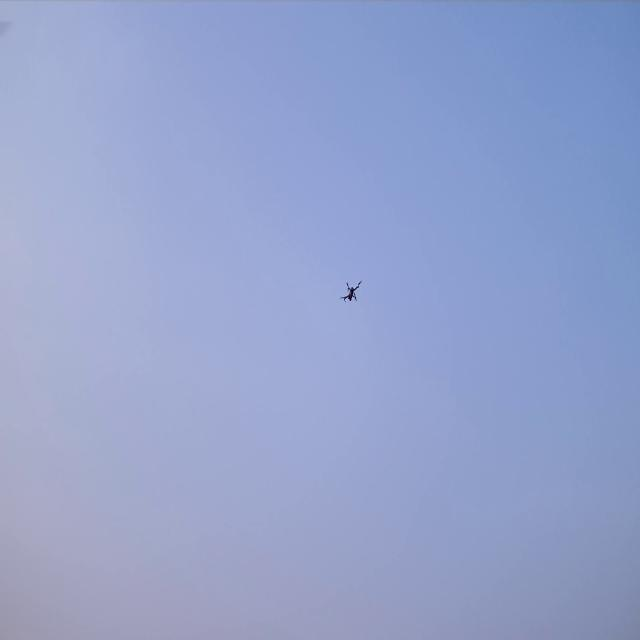UAV: (343, 282, 360, 302)
